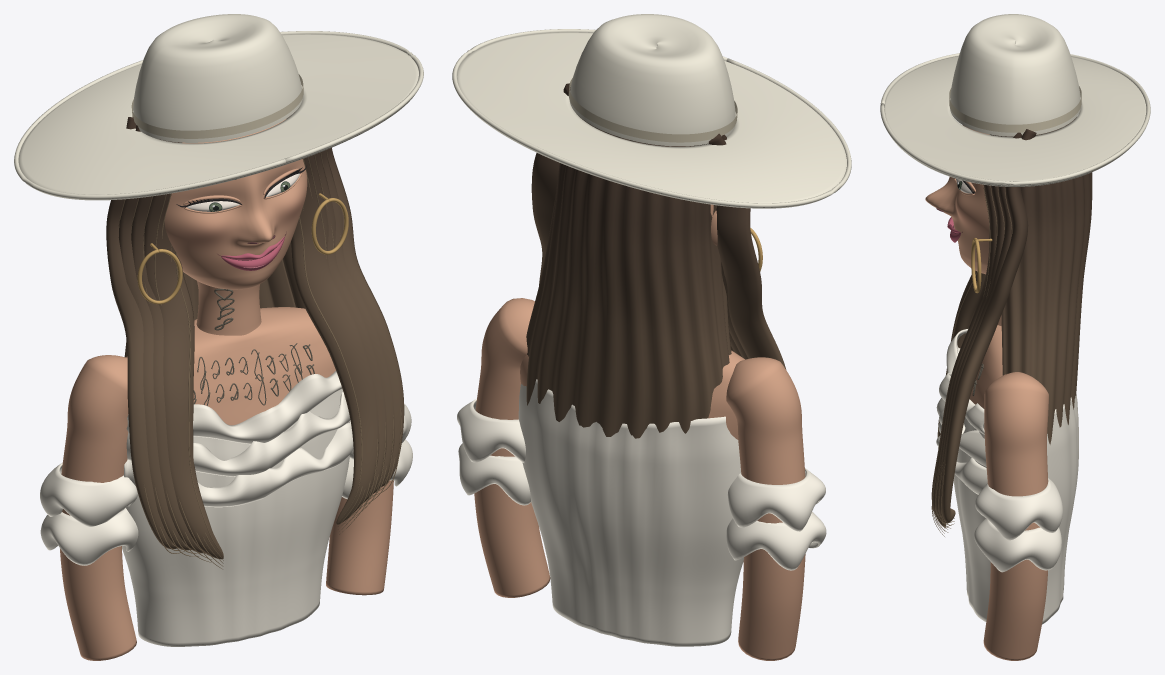
Rendered from mija_avatar.glb.
3 views of the same model, side by side, from view 1: azimuth 30°, elevation 25°; view 2: azimuth 150°, elevation 25°; view 3: azimuth 270°, elevation 25° (orthographic). The views are drawn at different scales.
Visible parts, largest first — view 1: Hat — ivory felt.001, Dress — ivory satin.001, Hair — bronde vertex colors.001, Skin — warm olive.001, Head — sculpted face.001, Tattoos — faded warm charcoal.001, Hat — understated cream band.001, Earrings — brushed gold.001, Lips — rose gloss.001; view 2: Dress — ivory satin.001, Hair — bronde vertex colors.001, Hat — ivory felt.001, Skin — warm olive.001, Hat — understated cream band.001; view 3: Hat — ivory felt.001, Hair — bronde vertex colors.001, Dress — ivory satin.001, Skin — warm olive.001, Head — sculpted face.001, Hat — understated cream band.001, Earrings — brushed gold.001.
Part boxes in pixels (x1=…): Hat — ivory felt.001: x1=14, y1=14, x2=423, y2=200; Dress — ivory satin.001: x1=40, y1=371, x2=412, y2=646; Hair — bronde vertex colors.001: x1=106, y1=112, x2=404, y2=569; Skin — warm olive.001: x1=60, y1=168, x2=393, y2=660; Head — sculpted face.001: x1=164, y1=119, x2=307, y2=289; Tattoos — faded warm charcoal.001: x1=193, y1=288, x2=314, y2=405; Hat — understated cream band.001: x1=131, y1=74, x2=303, y2=138; Earrings — brushed gold.001: x1=137, y1=193, x2=348, y2=304; Lips — rose gloss.001: x1=221, y1=236, x2=284, y2=270; Dress — ivory satin.001: x1=457, y1=379, x2=826, y2=646; Hair — bronde vertex colors.001: x1=526, y1=83, x2=786, y2=438; Hat — ivory felt.001: x1=452, y1=14, x2=851, y2=208; Skin — warm olive.001: x1=474, y1=210, x2=805, y2=660; Hat — understated cream band.001: x1=568, y1=78, x2=737, y2=142; Hat — ivory felt.001: x1=880, y1=14, x2=1150, y2=186; Hair — bronde vertex colors.001: x1=931, y1=117, x2=1092, y2=536; Dress — ivory satin.001: x1=936, y1=329, x2=1078, y2=624; Skin — warm olive.001: x1=954, y1=178, x2=1048, y2=660; Head — sculpted face.001: x1=925, y1=125, x2=989, y2=274; Hat — understated cream band.001: x1=949, y1=86, x2=1081, y2=132; Earrings — brushed gold.001: x1=971, y1=238, x2=992, y2=293.
Bounding box in the file's own units: 0.6406 × 0.955 × 0.421.
